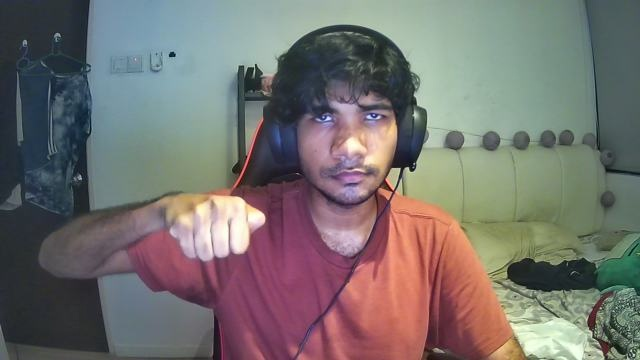Yes: (160, 194, 269, 261)
